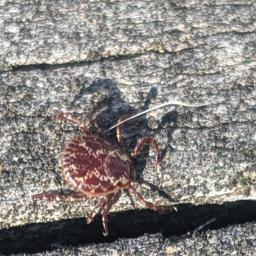Dermacentor variabilis: (32, 111, 162, 235)
